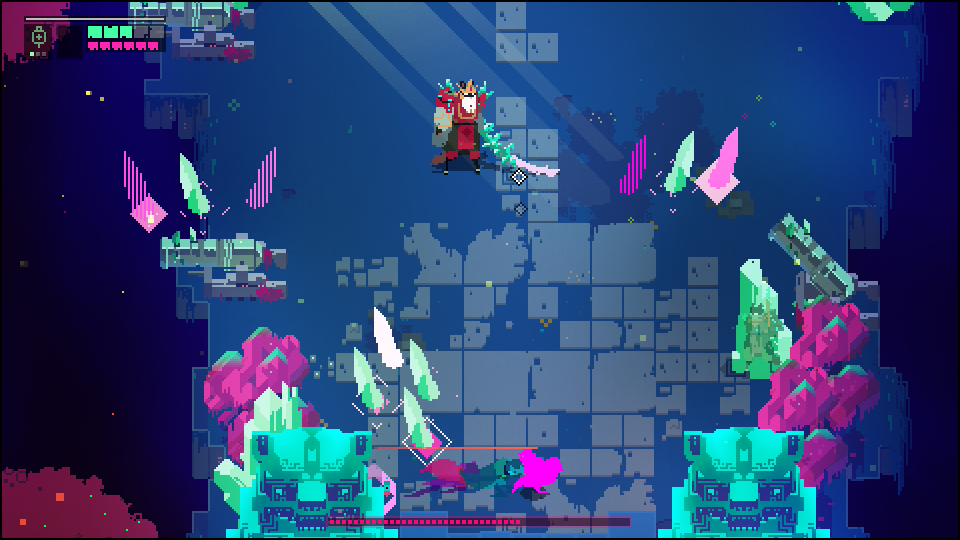hanged_crys: (122, 147, 159, 226), (171, 151, 212, 215), (616, 126, 651, 197), (709, 125, 744, 194), (405, 340, 444, 399), (401, 387, 438, 447), (241, 146, 278, 206), (351, 343, 384, 409), (372, 308, 402, 370), (667, 129, 692, 192)
hanged_man: (431, 74, 520, 180)
player: (511, 446, 563, 494)
